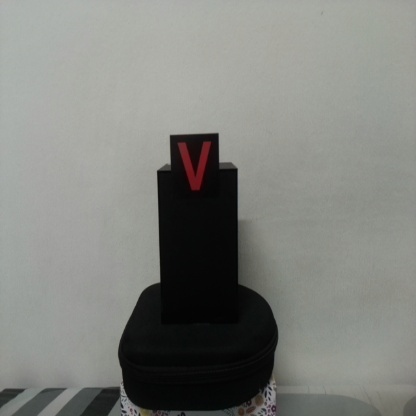id_11: (170, 135, 219, 200)
